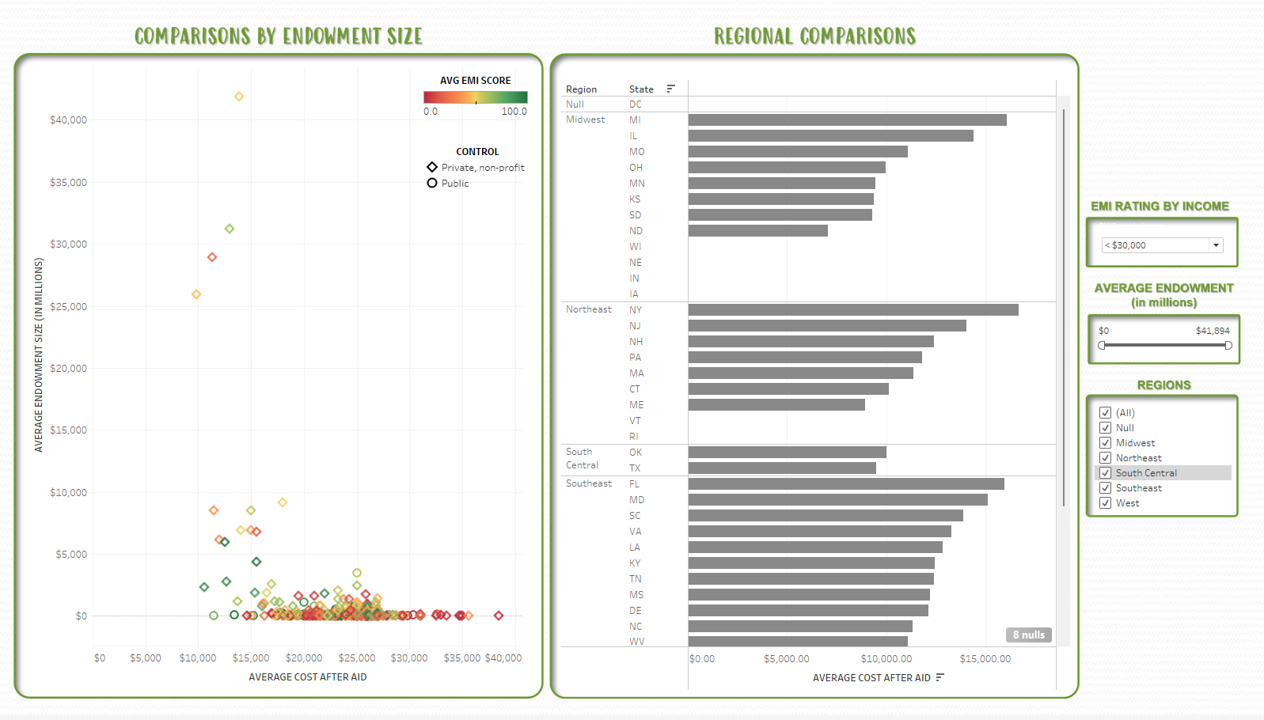

The dashboard page shown, as its layout file describes it:
{"tool":"tableau","page":{"name":"Cases","canvas":[1600,900],"ordinal":0},"visuals":[{"type":"image","box":[8,8,1584,884]},{"type":"worksheet","title":"End/COA","mark":"Automatic","rows":["endowment"],"cols":["cost_after_aid"],"box":[34,69,628,802]},{"type":"worksheet","title":"geography","mark":"Automatic","rows":["region","state"],"cols":["Calculation_1694479382671958017"],"box":[710,86,643,787]},{"type":"legend","title":"End/COA","param":"[federated.1hxq9pc005sbia15xrpym0ocj5m0].[avg:Calculation_822188426373472259:qk]","box":[532,93,140,84]},{"type":"legend","title":"End/COA","param":"[federated.1hxq9pc005sbia15xrpym0ocj5m0].[none:control:nk]","box":[536,183,137,71]},{"type":"parameter","param":"[Parameters].[Parameter 1]","box":[1390,279,160,44]},{"type":"filter","title":"End/COA","param":"[federated.1hxq9pc005sbia15xrpym0ocj5m0].[avg:endowment:qk]","box":[1384,387,178,61]},{"type":"filter","title":"geography","param":"[federated.1hxq9pc005sbia15xrpym0ocj5m0].[none:region:nk]","box":[1384,491,173,173]}]}

Visuals, with their boxes in screenshot pixels (x1, y1, x2, y2), scaled from the page's 1600x900 canvas onto the 1264x720 screenshot:
image: bbox=[6, 6, 1258, 714]
"End/COA" worksheet: bbox=[27, 55, 523, 697]
"geography" worksheet: bbox=[561, 69, 1069, 698]
"End/COA" legend: bbox=[420, 74, 531, 142]
"End/COA" legend: bbox=[423, 146, 532, 203]
parameter: bbox=[1098, 223, 1224, 258]
"End/COA" filter: bbox=[1093, 310, 1234, 358]
"geography" filter: bbox=[1093, 393, 1230, 531]
